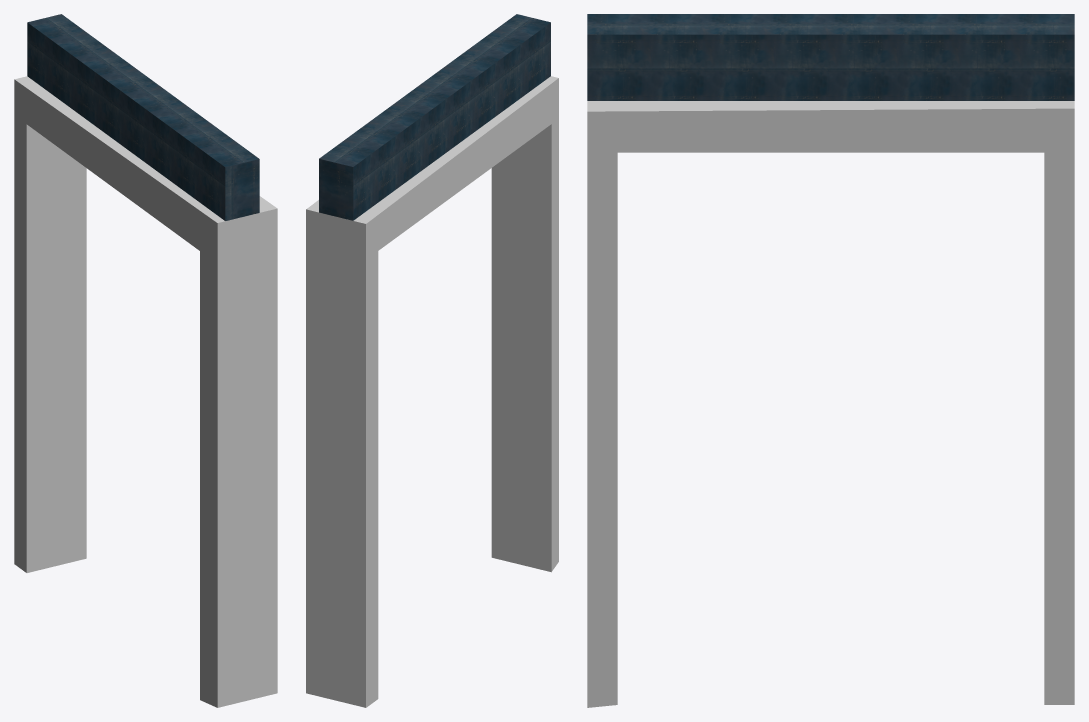
The model's file is DoorFrame.glb.
The picture shows the model from 3 angles, left to right: view 1: azimuth 30°, elevation 25°; view 2: azimuth 150°, elevation 25°; view 3: azimuth 270°, elevation 25°; orthographic projection. The views are drawn at different scales.
Visible parts, largest first — view 1: DoorFrame; view 2: DoorFrame; view 3: DoorFrame.
Part boxes in pixels (bbox=[...]): DoorFrame: bbox=[14, 14, 277, 707]; DoorFrame: bbox=[306, 14, 558, 707]; DoorFrame: bbox=[587, 14, 1074, 707].
Bounding box in the file's own units: 0.3793 × 3 × 2.
2 materials, 1 textured.
